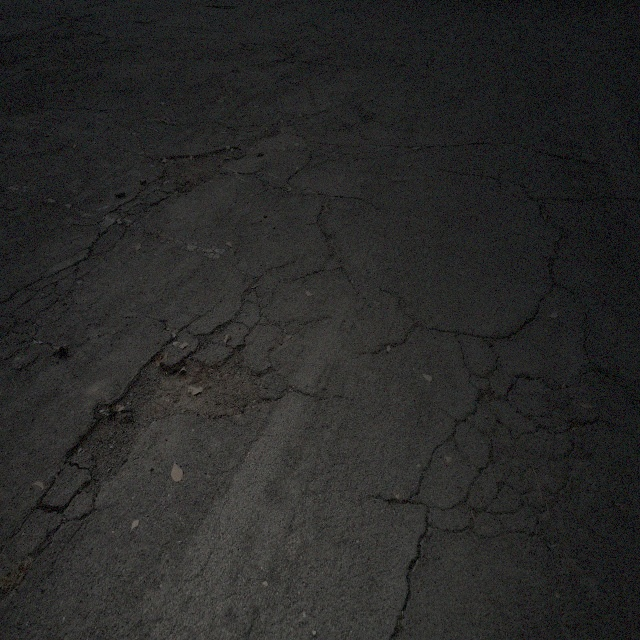pothole: (71, 336, 298, 497), (156, 140, 244, 200), (208, 3, 237, 14)
